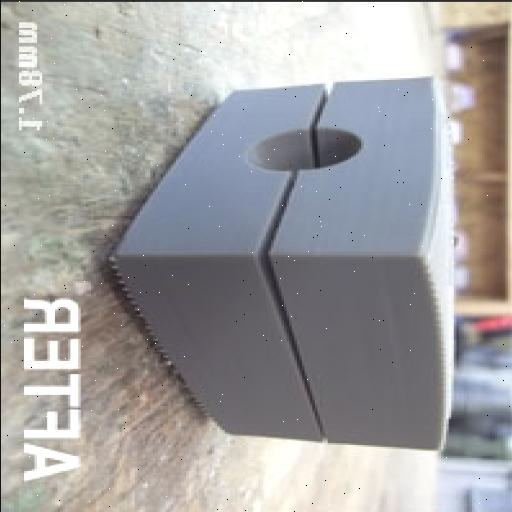cracks: (224, 166, 320, 388), (298, 74, 342, 144)
